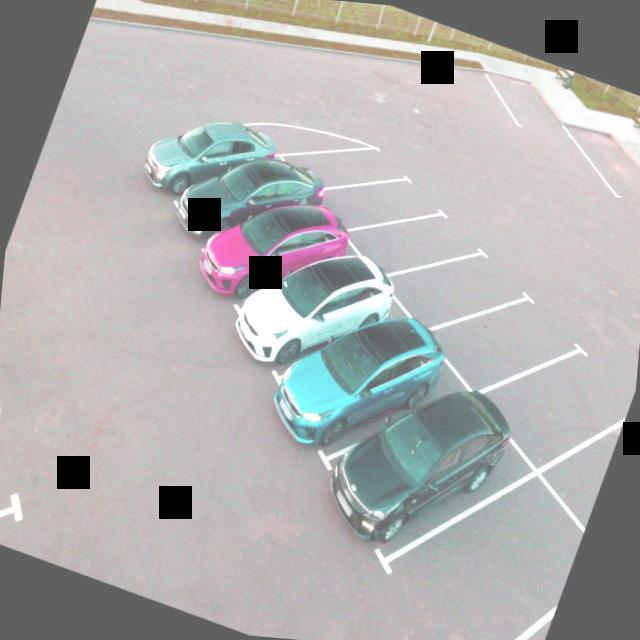car: (314, 352, 520, 574), (274, 286, 454, 489), (223, 222, 400, 411), (194, 168, 352, 332), (154, 128, 314, 280), (133, 100, 260, 230)
free: (372, 441, 598, 640), (478, 323, 640, 485), (420, 268, 592, 414), (382, 220, 537, 346), (344, 176, 488, 296), (324, 146, 434, 256), (286, 105, 398, 212)
